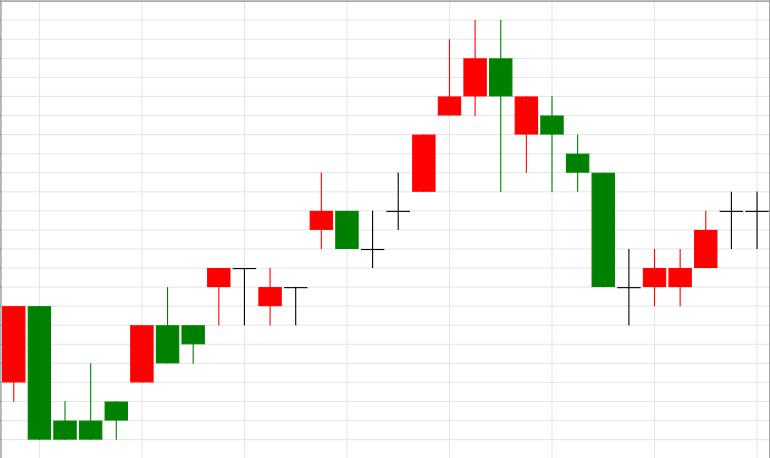bearish_engulfing_fall: (361, 19, 512, 269)
morning_star_rise: (541, 96, 666, 325)
